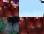altar: (19, 17, 44, 34), (0, 0, 19, 17)
